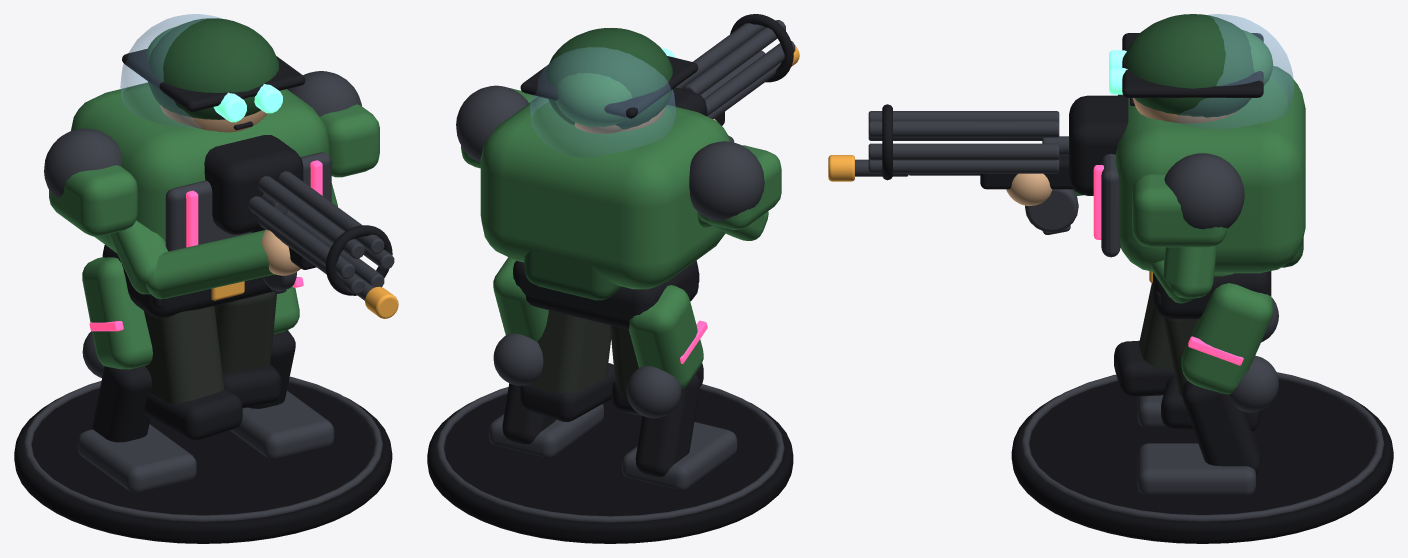
The model's file is garder.glb.
3 renders of one model, left to right at view 1: azimuth 30°, elevation 25°; view 2: azimuth 150°, elevation 25°; view 3: azimuth 270°, elevation 25°, orthographic. The views are drawn at different scales.
Visible parts, largest first — view 1: fod_net, op4.003_net, benV5_net, skuldre5_net, hoved_net, benV_net, spin_tromle_net, skuldre_net, benH5_net, vaaben5_net, benH_net, hoved5_net (+2 smaller); view 2: op4.003_net, fod_net, benV5_net, hoved5_net, skuldre5_net, benH5_net, benH_net, hoved_net, spin_tromle_net, op1_net, op3_net, benV_net (+2 smaller); view 3: fod_net, op4.003_net, benH5_net, spin_tromle_net, hoved_net, skuldre5_net, hoved5_net, vaaben5_net, skuldre_net, benV_net, op3_net, benH_net (+4 smaller).
Part boxes in pixels (x1,y1,x2,y2): fod_net: (14, 376, 392, 543); op4.003_net: (71, 82, 331, 318); benV5_net: (78, 257, 196, 492); skuldre5_net: (44, 71, 379, 236); hoved_net: (148, 18, 278, 132); benV_net: (144, 306, 242, 440); spin_tromle_net: (248, 171, 394, 295); skuldre_net: (109, 183, 337, 299); benH5_net: (230, 277, 334, 458); vaaben5_net: (204, 135, 303, 234); benH_net: (214, 292, 281, 408); hoved5_net: (120, 14, 222, 128); op4.003_net: (480, 96, 734, 329); fod_net: (427, 384, 793, 543); benV5_net: (622, 285, 737, 489); hoved5_net: (530, 47, 675, 157); skuldre5_net: (456, 85, 781, 229); benH5_net: (489, 257, 603, 457); benH_net: (520, 310, 614, 422); hoved_net: (546, 28, 672, 131); spin_tromle_net: (676, 14, 795, 118); op1_net: (524, 249, 622, 300); op3_net: (520, 48, 698, 118); benV_net: (610, 325, 703, 415); fod_net: (1011, 372, 1393, 543); op4.003_net: (1093, 66, 1305, 319); benH5_net: (1137, 283, 1278, 495); spin_tromle_net: (868, 104, 1059, 180); hoved_net: (1124, 14, 1254, 123); skuldre5_net: (1132, 153, 1244, 247); hoved5_net: (1173, 14, 1294, 129); vaaben5_net: (1069, 95, 1128, 195); skuldre_net: (1006, 173, 1216, 303); benV_net: (1114, 283, 1174, 396); op3_net: (1109, 33, 1263, 97); benH_net: (1161, 317, 1262, 431).
Size of the model in its own units: 2 by 2.58 by 2.96.
